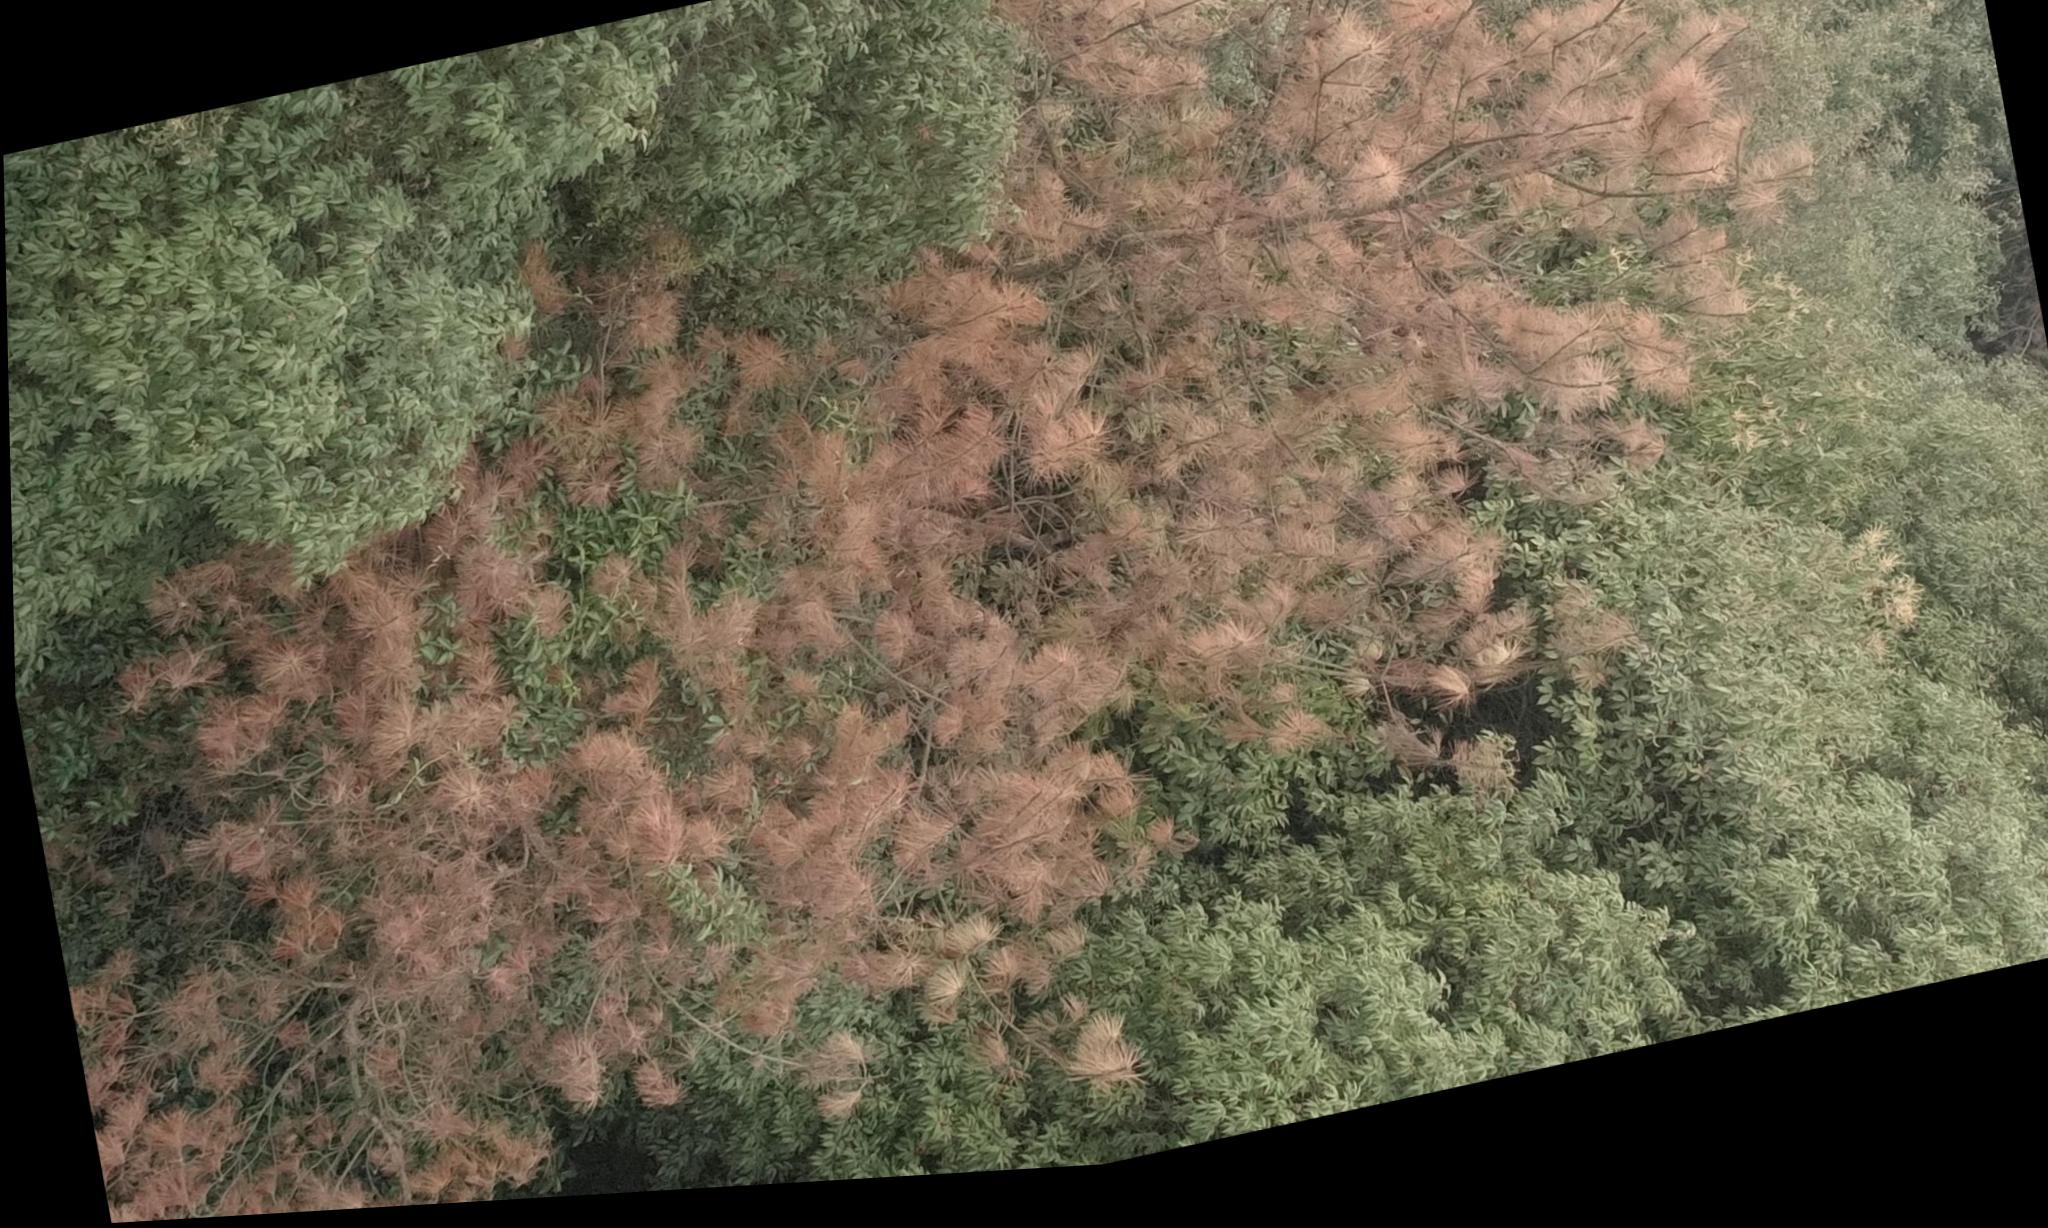heavy: (19, 250, 1054, 1228), (911, 0, 1851, 842)
